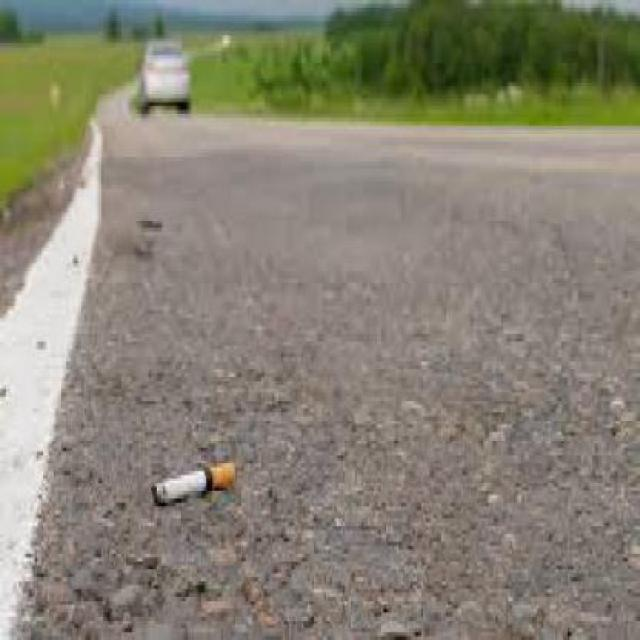cigarette: (134, 463, 235, 511)
